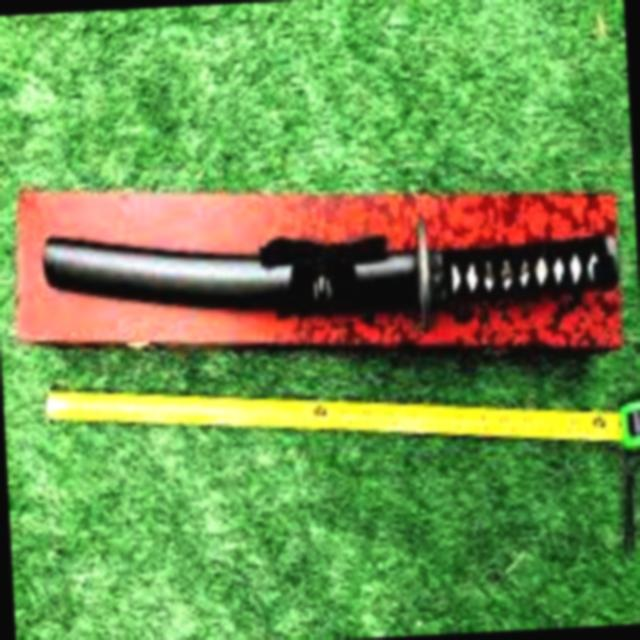long sword: (38, 198, 630, 338)
